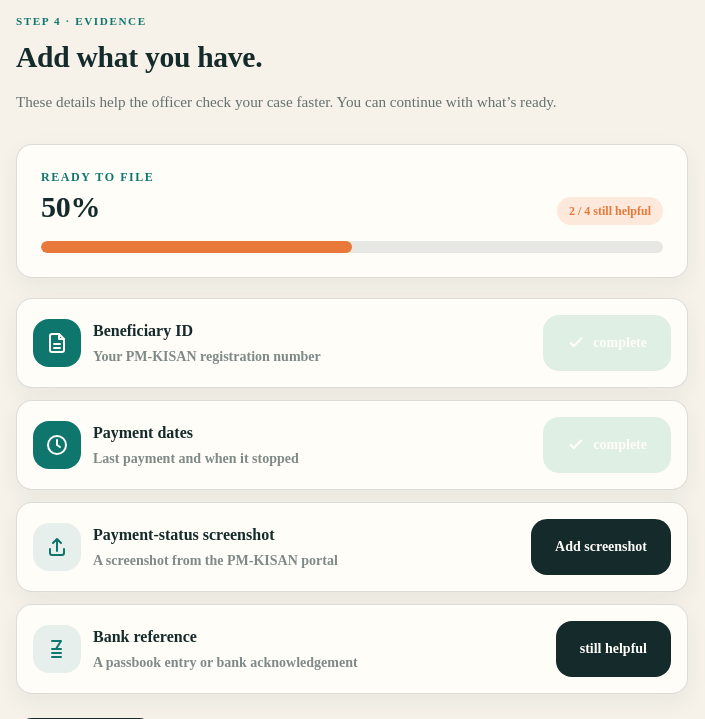
Test case: EvidenceStep › updates the completeness score when a screenshot is added
Check: the text "50%" is shown, box 41,190 -> 100,223
Click the button "Add screenshot". click: (601, 547)
box: 531,519 -> 671,575
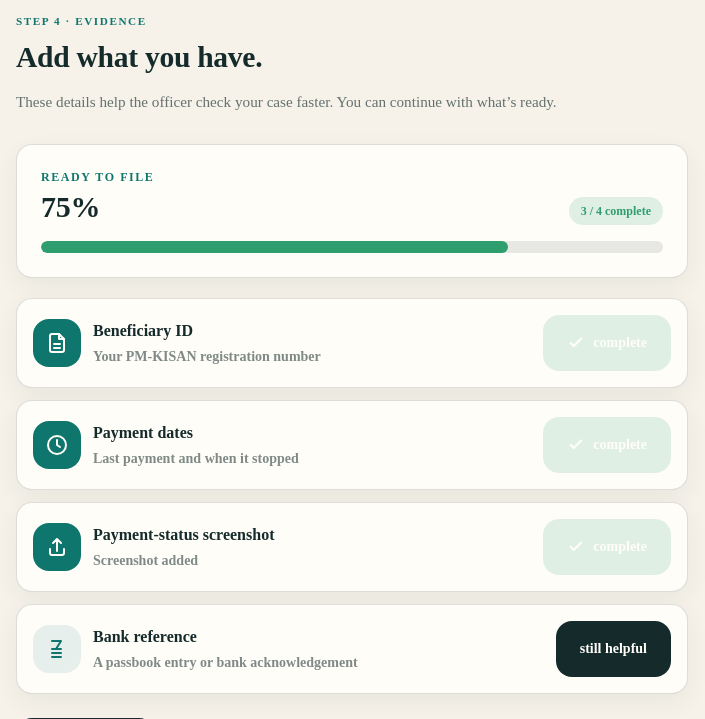
Check: the text "75%" is shown, box 41,190 -> 100,223
Check: the text "Screenshot added" is shown, box 93,553 -> 198,568
